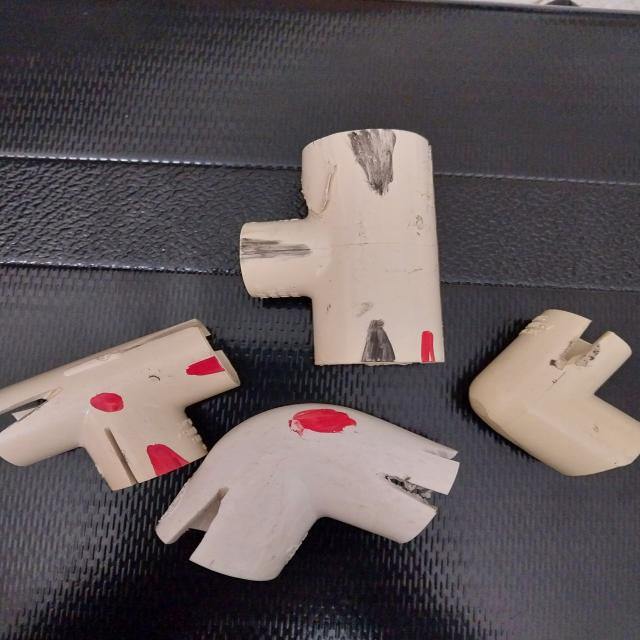Defective: (176, 492, 244, 566), (349, 130, 408, 196), (376, 466, 450, 516), (0, 394, 62, 434), (105, 432, 147, 488), (364, 318, 395, 365), (242, 242, 311, 261), (293, 411, 350, 433), (148, 447, 186, 472), (88, 393, 125, 416), (202, 357, 233, 380), (186, 360, 223, 378), (420, 329, 434, 364)
L Joint: (148, 406, 457, 581), (235, 128, 437, 360), (467, 314, 640, 484)
T Joint: (9, 318, 242, 495)
